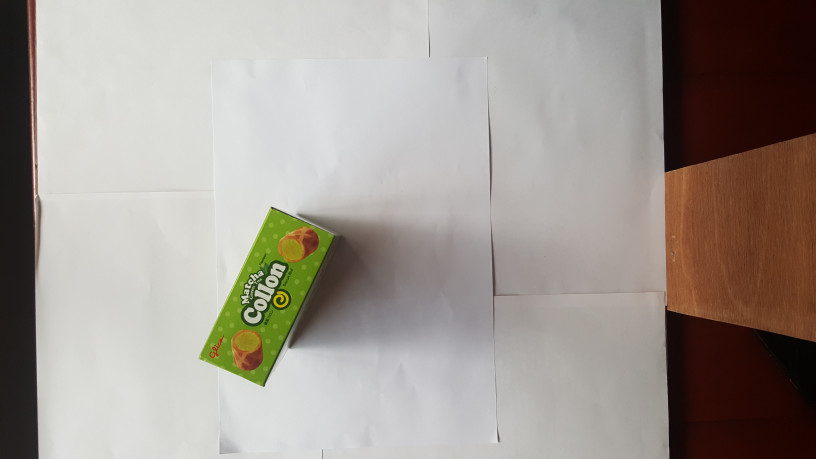collon-matcha: (196, 204, 345, 388)
